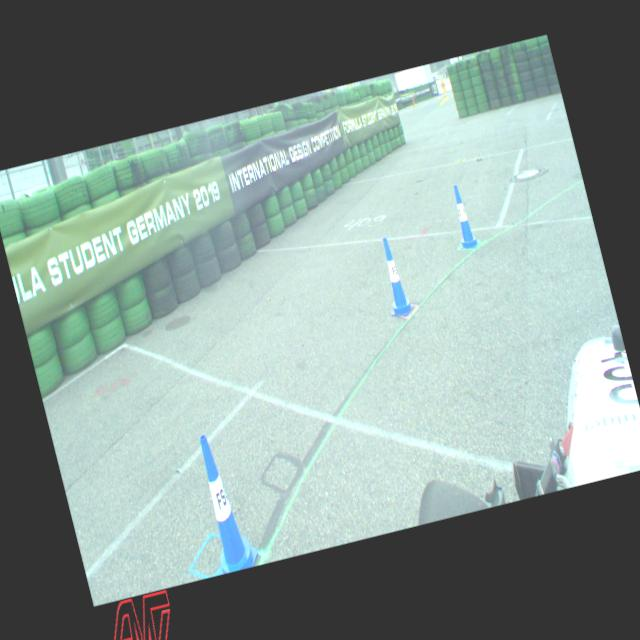blue_cone: (186, 429, 260, 574), (373, 234, 415, 318), (446, 184, 480, 252)
